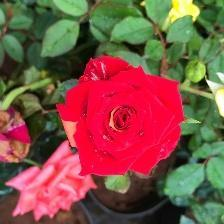rose: (55, 53, 188, 180)
